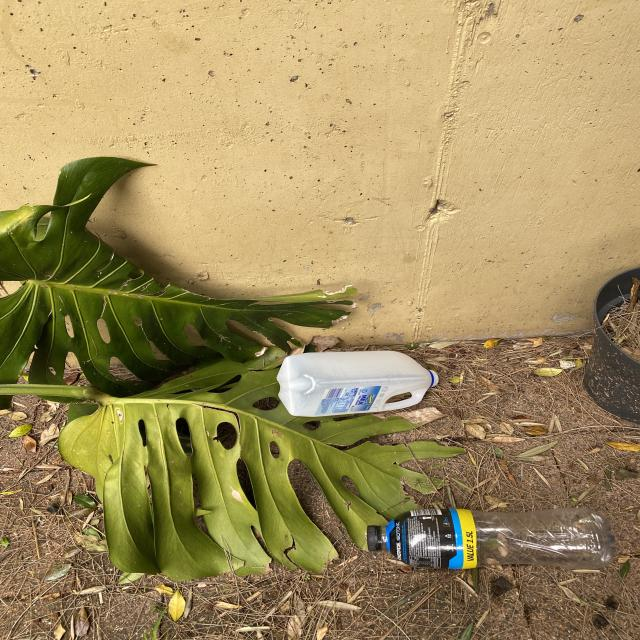bottle: (364, 500, 612, 576), (271, 351, 444, 416)
container: (592, 263, 640, 419)
